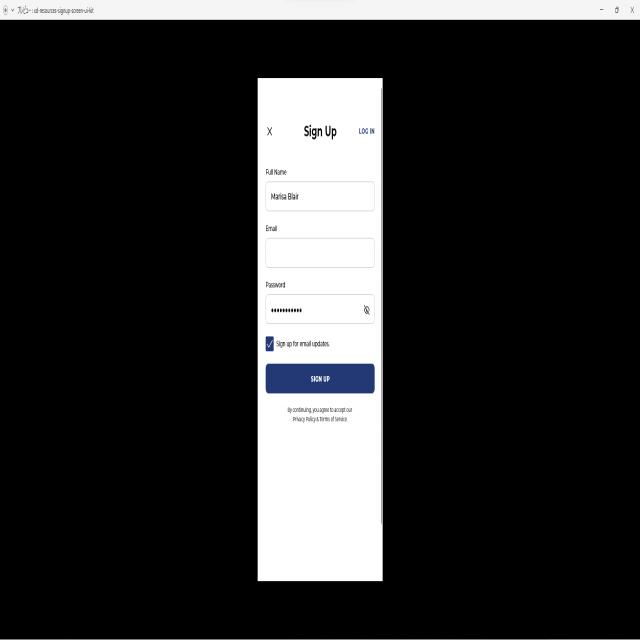checkbox: (264, 334, 276, 354)
